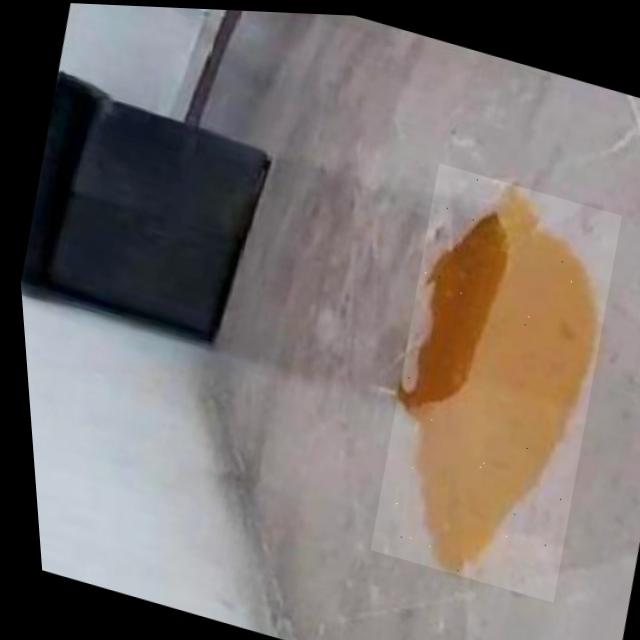spillage: (394, 180, 595, 570)
